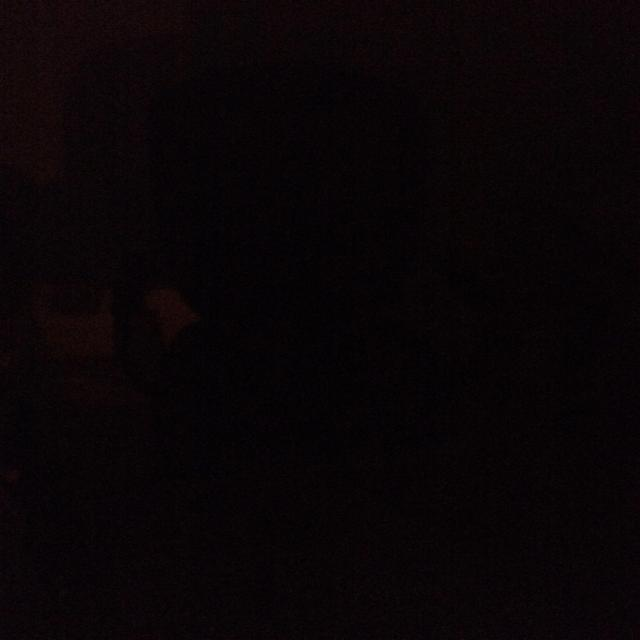chair: (97, 30, 545, 507)
